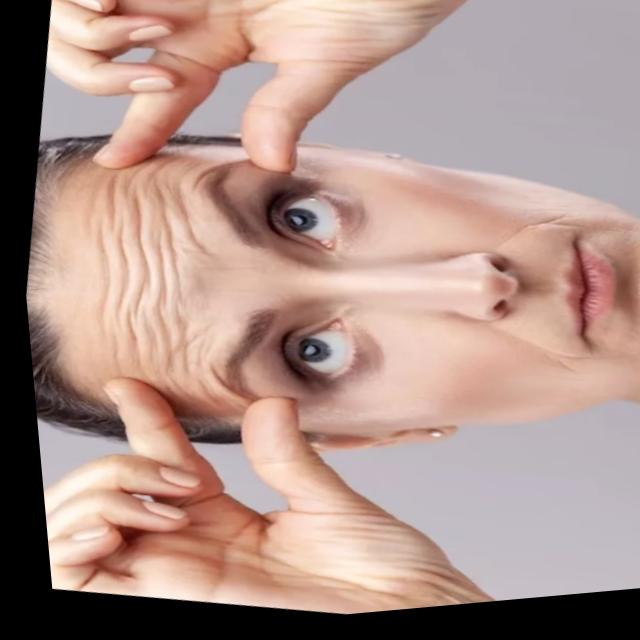Wrinkles: (136, 158, 183, 376), (118, 158, 158, 375), (143, 228, 190, 404), (78, 172, 113, 376), (170, 162, 208, 261), (106, 205, 126, 331), (188, 383, 222, 411), (101, 170, 114, 232)
